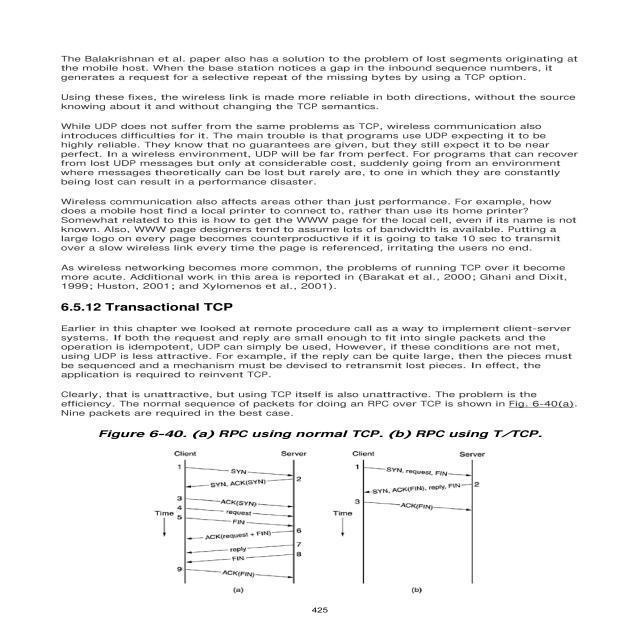diagram: (0, 416, 615, 640)
